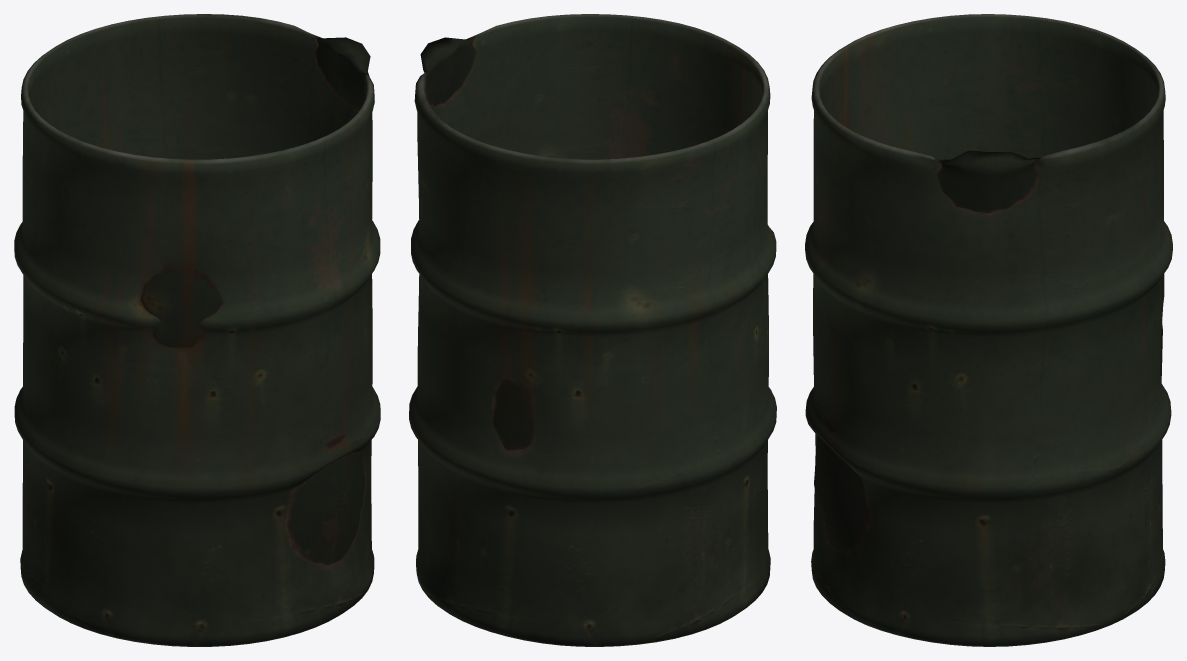
File: Barrel_Open.fbx
3 renders of one model, left to right at view 1: azimuth 30°, elevation 25°; view 2: azimuth 150°, elevation 25°; view 3: azimuth 270°, elevation 25°, orthographic.
Parts seen in each view (by area): view 1: Barrel_Open_Mesh; view 2: Barrel_Open_Mesh; view 3: Barrel_Open_Mesh.
Boxes of the visible parts, bbox=[...] form: Barrel_Open_Mesh: bbox=[14, 14, 380, 646]; Barrel_Open_Mesh: bbox=[409, 14, 776, 646]; Barrel_Open_Mesh: bbox=[805, 14, 1172, 646].
Size of the model in its own units: 0.6113 by 0.8901 by 0.6018.
